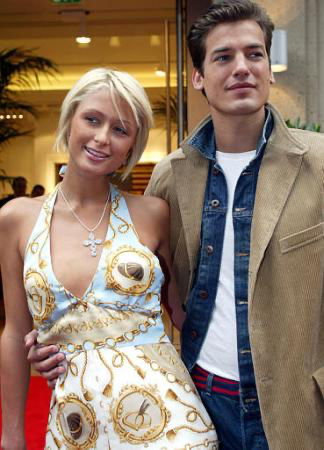Face: (66, 95, 138, 186), (201, 29, 274, 117)
